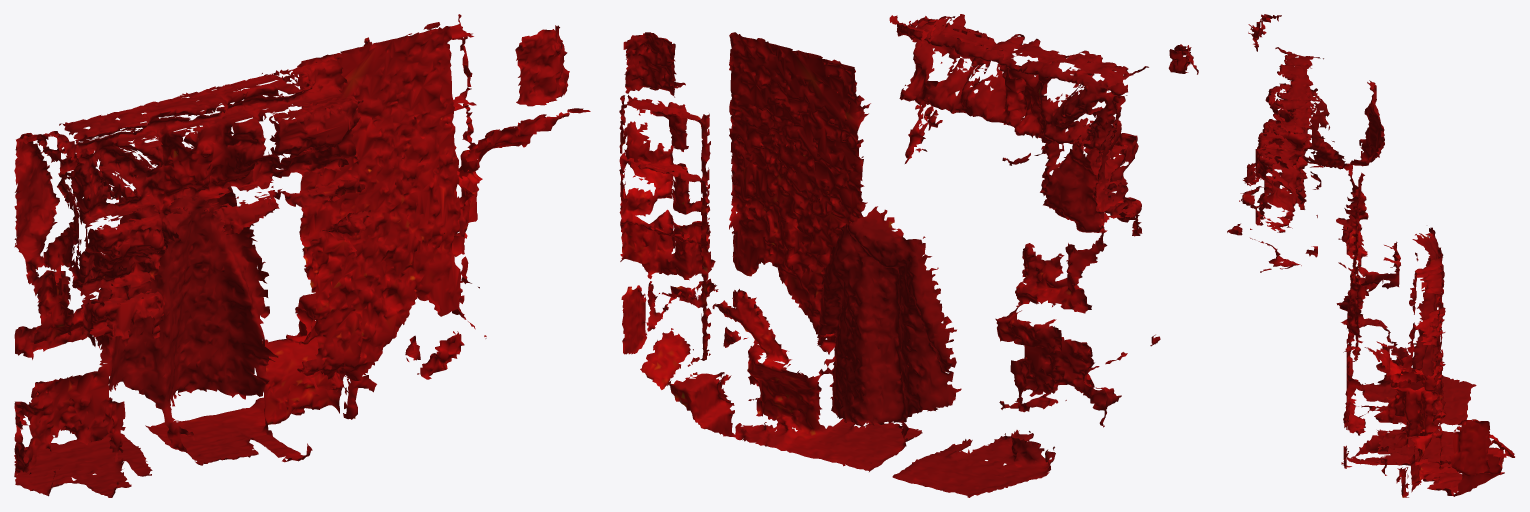
3 views of the same model, side by side, from view 1: azimuth 30°, elevation 25°; view 2: azimuth 150°, elevation 25°; view 3: azimuth 270°, elevation 25° (orthographic). The views are drawn at different scales.
Bounding box in the file's own units: 3.03 × 2.14 × 1.64.
